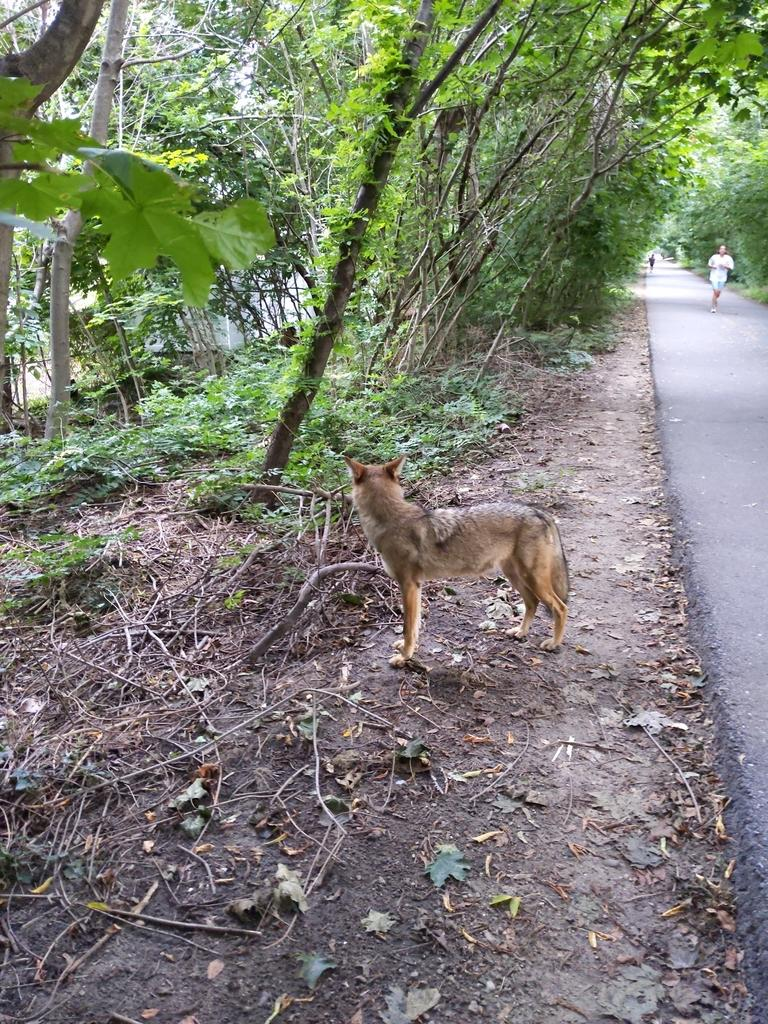Coyote: (344, 454, 579, 673)
